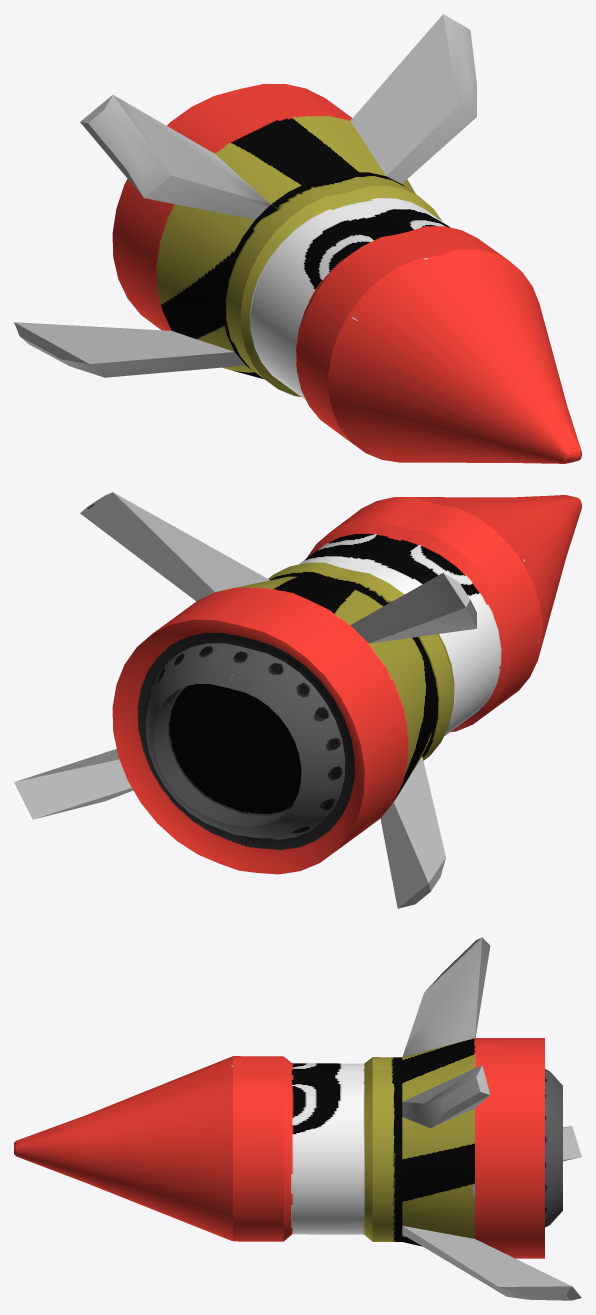
File: rocketMegaKart(22-04-05).fbx
3 renders of one model, top to bottom at view 1: azimuth 30°, elevation 25°; view 2: azimuth 150°, elevation 25°; view 3: azimuth 270°, elevation 25°, orthographic. The views are drawn at different scales.
Visible parts, largest first — view 1: RocketFly; view 2: RocketFly; view 3: RocketFly.
Part boxes in pixels (left/top/right/bottom): RocketFly: left=14, top=14, right=581, bottom=463; RocketFly: left=14, top=492, right=581, bottom=908; RocketFly: left=14, top=937, right=581, bottom=1300.
Bounding box in the file's own units: 87.77 × 62.54 × 131.
1 material, 1 textured.
